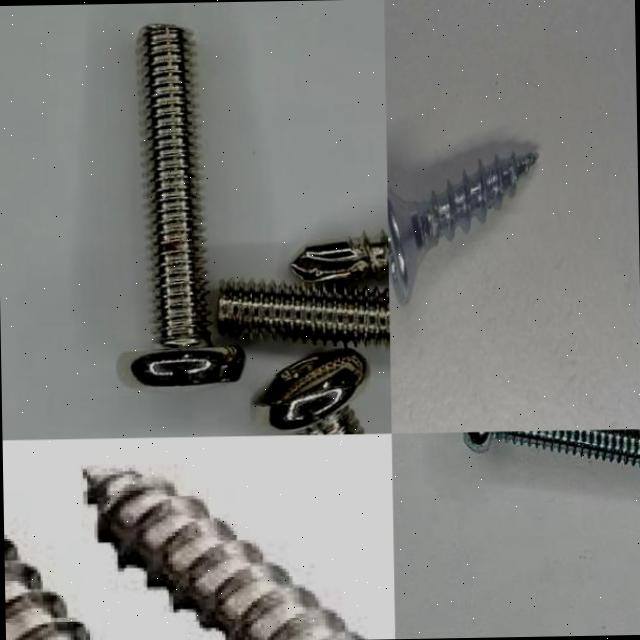Screw: (80, 468, 361, 640), (129, 23, 243, 386), (387, 151, 538, 304), (217, 283, 390, 345), (253, 349, 367, 435), (462, 429, 640, 467), (290, 232, 388, 283)
